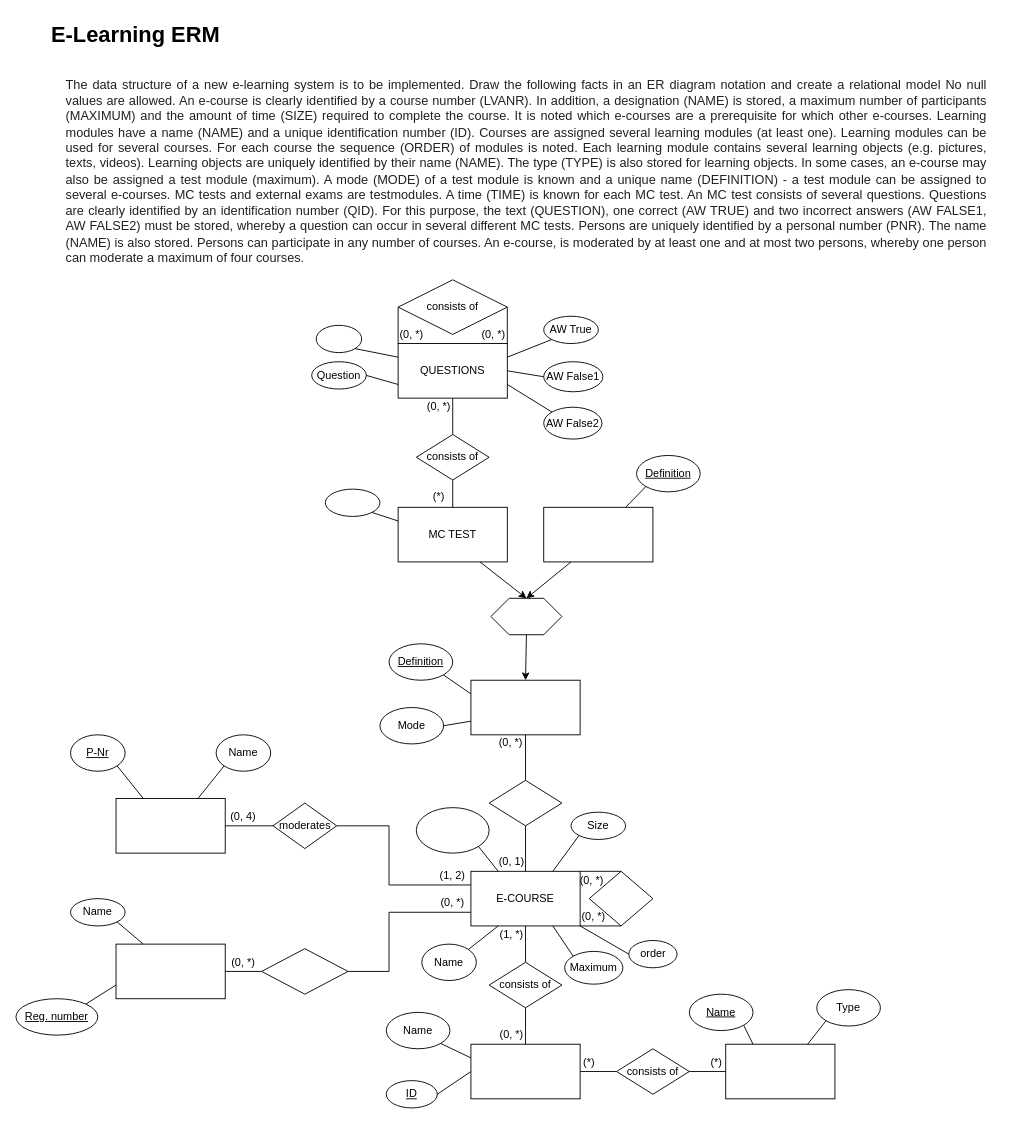
The diagram is 1017 pixels wide and 1124 high, and some of its shapes have lost their labels. Each missing label, with the box of its shape:
assigned to: (488, 779, 562, 826)
EXTERNAL EXAME: (543, 506, 653, 562)
is-a: (490, 597, 562, 635)
LEARNING MODUL: (470, 1043, 580, 1099)
LEARNING OBJECTS: (725, 1043, 835, 1099)
LVANR: (415, 807, 489, 853)
PARTICIPANTS: (115, 943, 225, 999)
participates in: (261, 948, 348, 994)
PERSON: (115, 798, 225, 853)
QID: (315, 324, 362, 353)
requires: (588, 870, 653, 926)
TEST MODUL: (470, 679, 580, 735)
Time: (324, 488, 380, 516)
